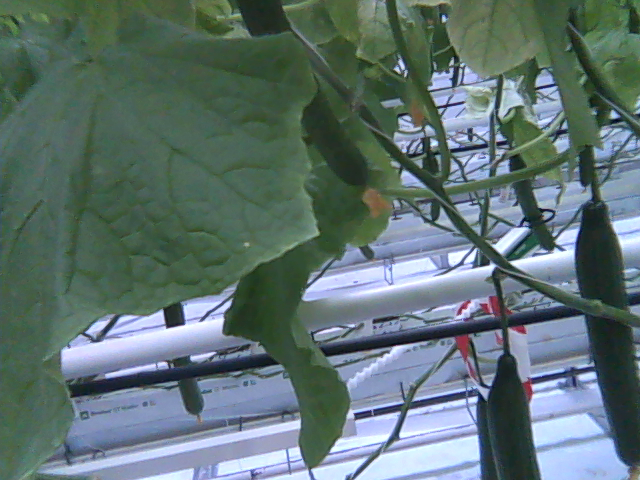concombre: (231, 1, 394, 221), (572, 185, 640, 480), (478, 344, 546, 480)
